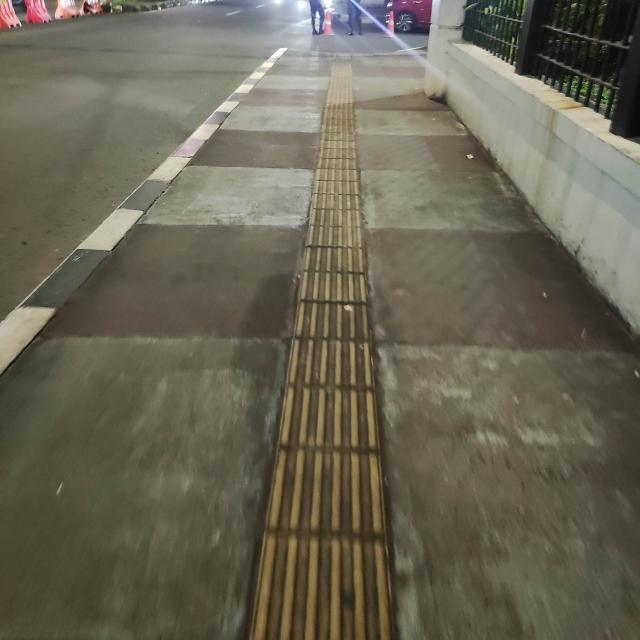lurus: (253, 105, 394, 640)
